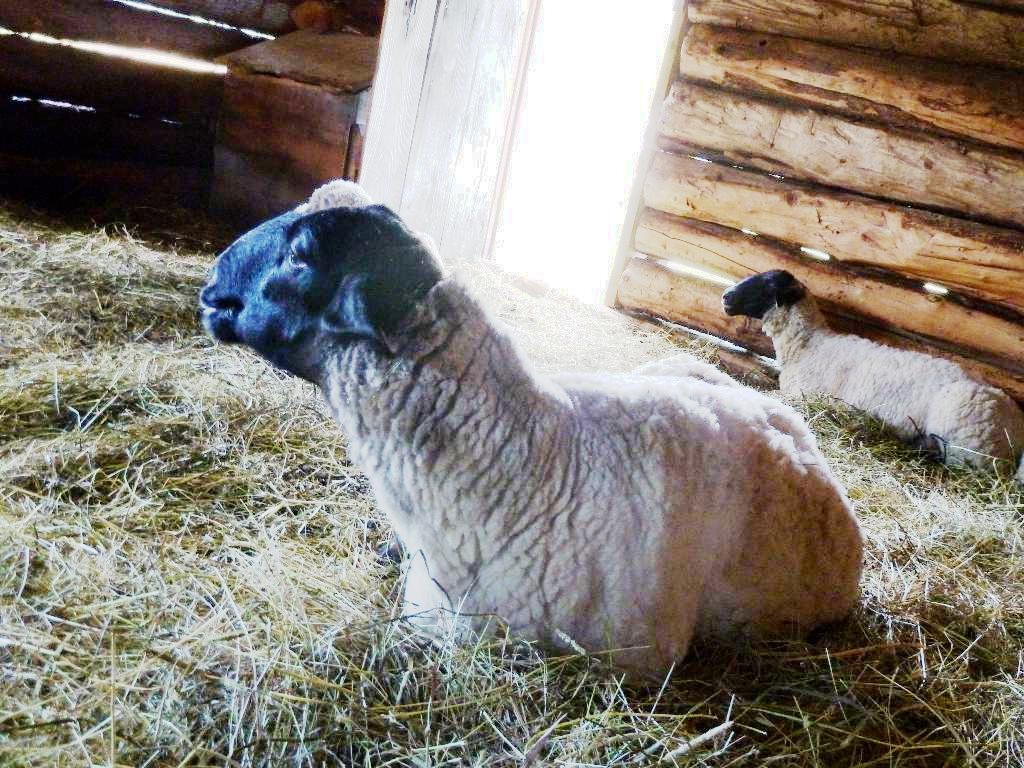Sheep: (185, 196, 865, 712), (720, 272, 1024, 494)
